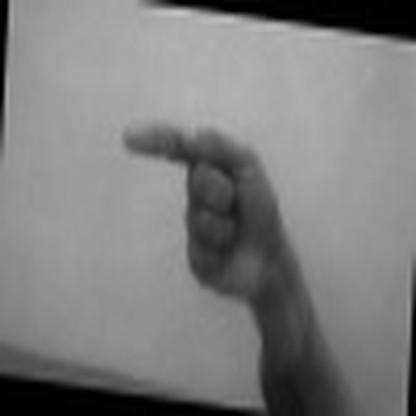g: (121, 112, 286, 298)
